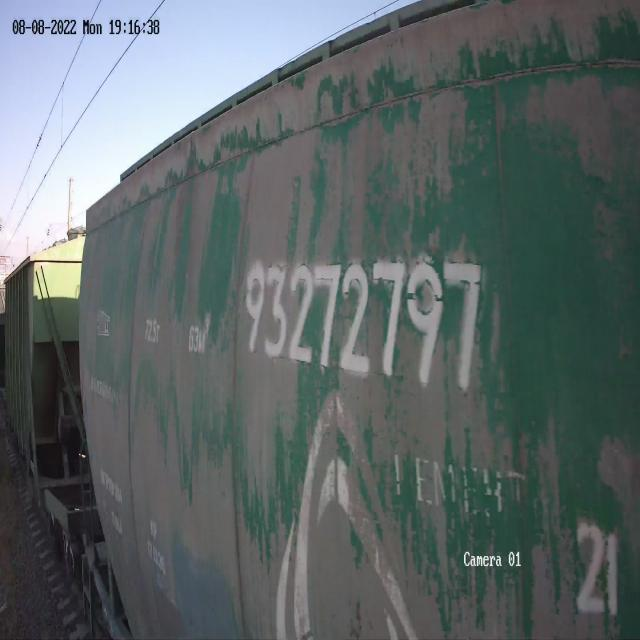hopper: (71, 0, 640, 640), (1, 216, 98, 498)
